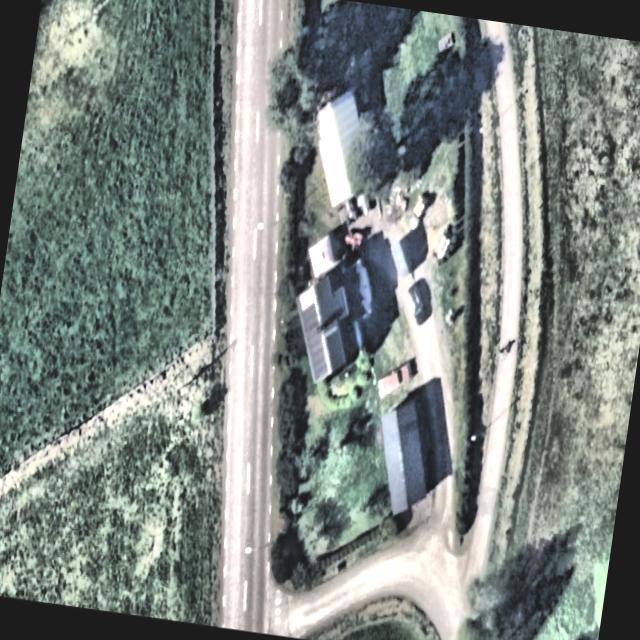roof_pv: (290, 301, 340, 388)
